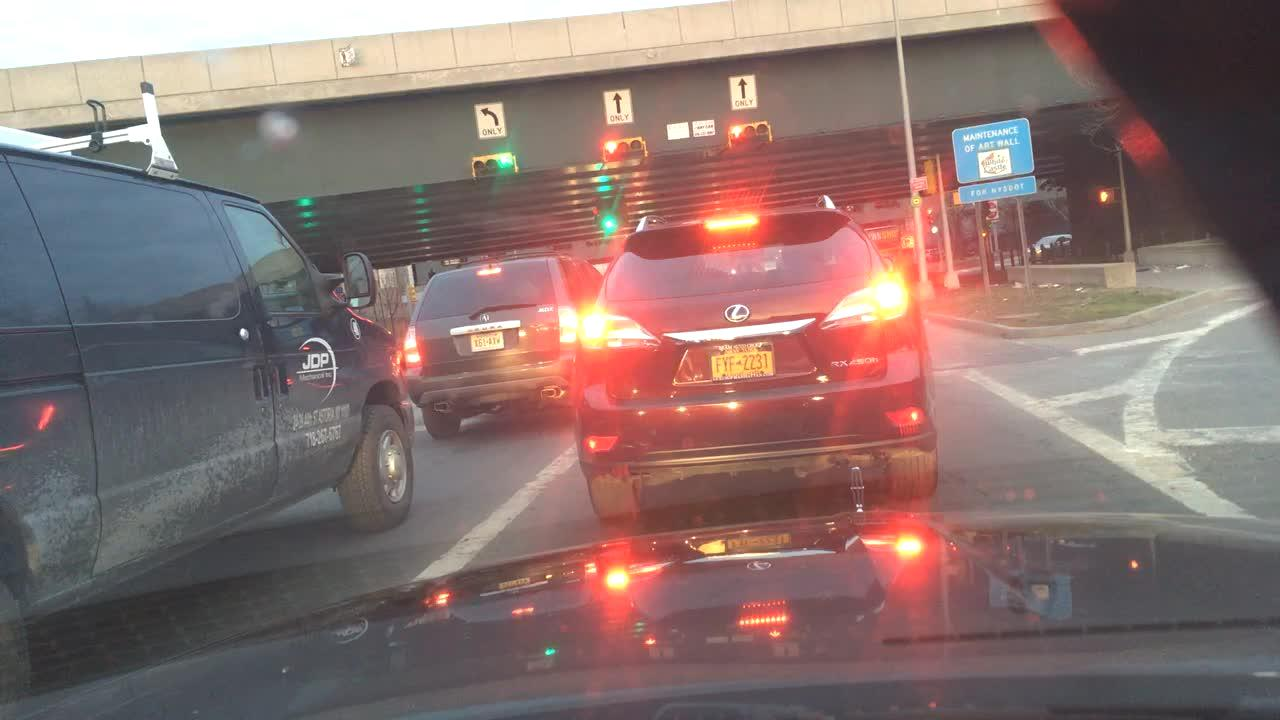acura: (476, 312, 492, 325)
lexus: (717, 298, 757, 326)
